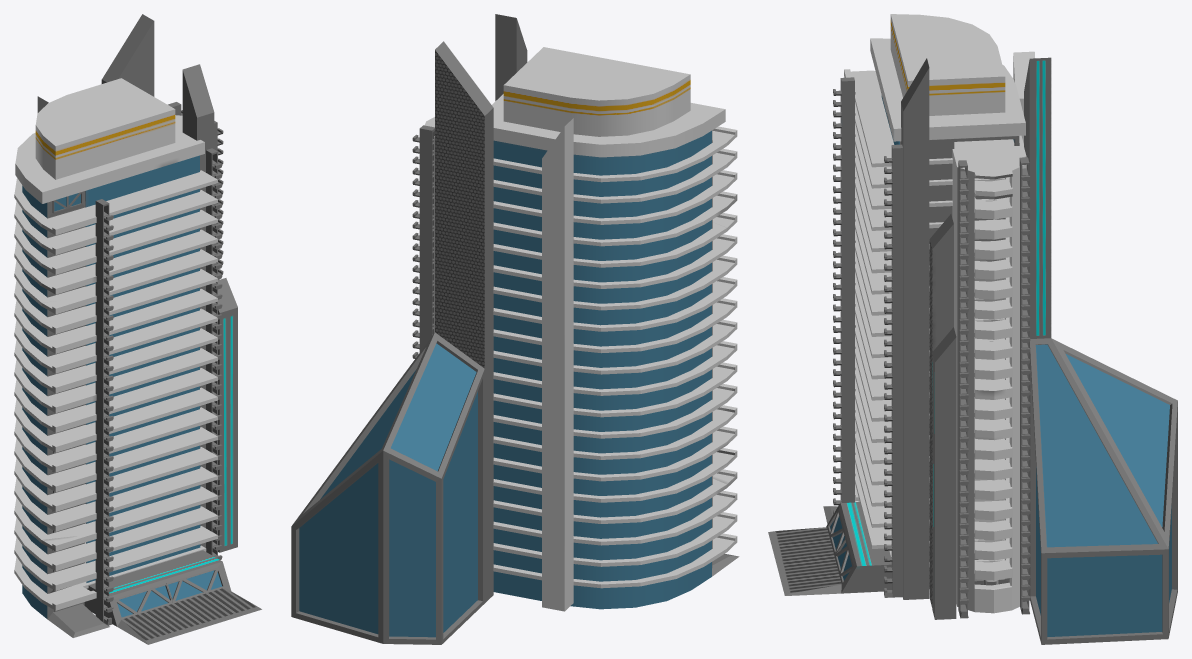
File: SM_Building_02_SM_B2_Part.fbx
The picture shows the model from 3 angles, left to right: view 1: azimuth 30°, elevation 25°; view 2: azimuth 150°, elevation 25°; view 3: azimuth 270°, elevation 25°; orthographic projection. The views are drawn at different scales.
Visible parts, largest first — view 1: SM_Building_02_SM_B2_Part_LOD0; view 2: SM_Building_02_SM_B2_Part_LOD0; view 3: SM_Building_02_SM_B2_Part_LOD0.
Part boxes in pixels (x1,y1,x2,y2): SM_Building_02_SM_B2_Part_LOD0: (14, 14, 261, 644); SM_Building_02_SM_B2_Part_LOD0: (291, 14, 739, 644); SM_Building_02_SM_B2_Part_LOD0: (768, 14, 1177, 644).
Size of the model in its own units: 2634 by 3171 by 4621.
